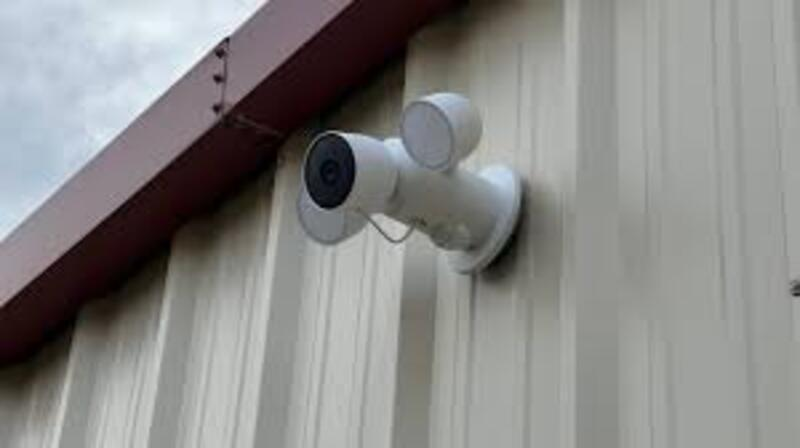nest: (286, 132, 404, 229)
